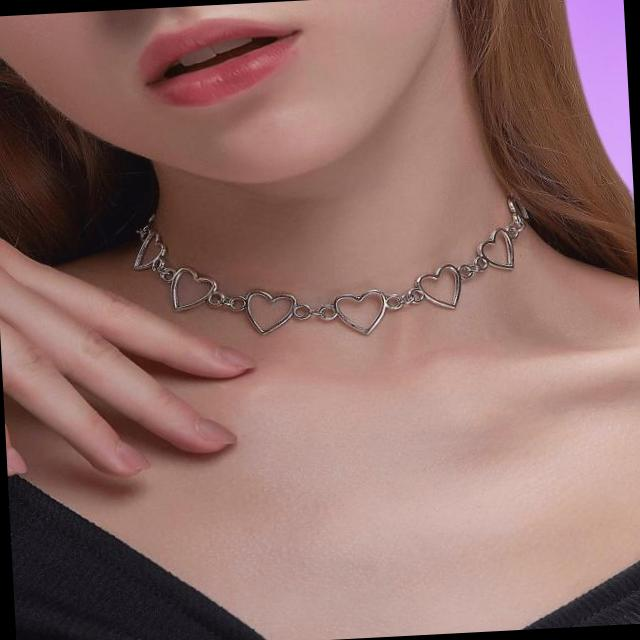Nail: (114, 440, 152, 470), (211, 345, 259, 368), (196, 419, 234, 441), (7, 446, 27, 475)
